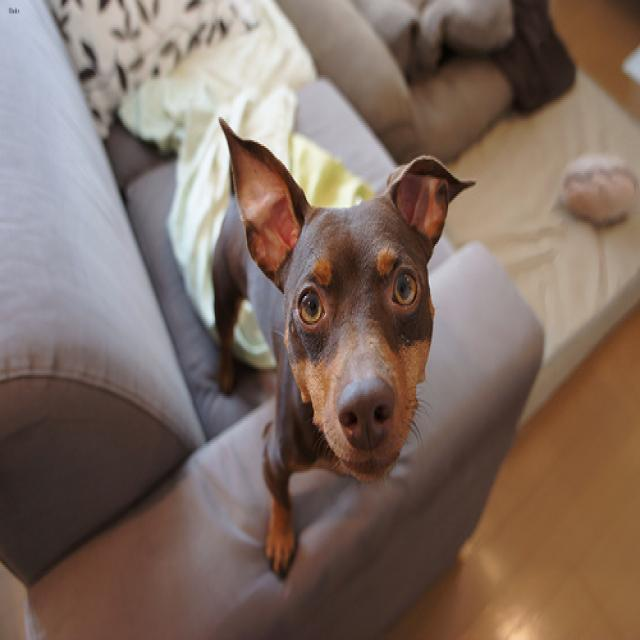dog-miniature_pinscher: (202, 106, 481, 588)
